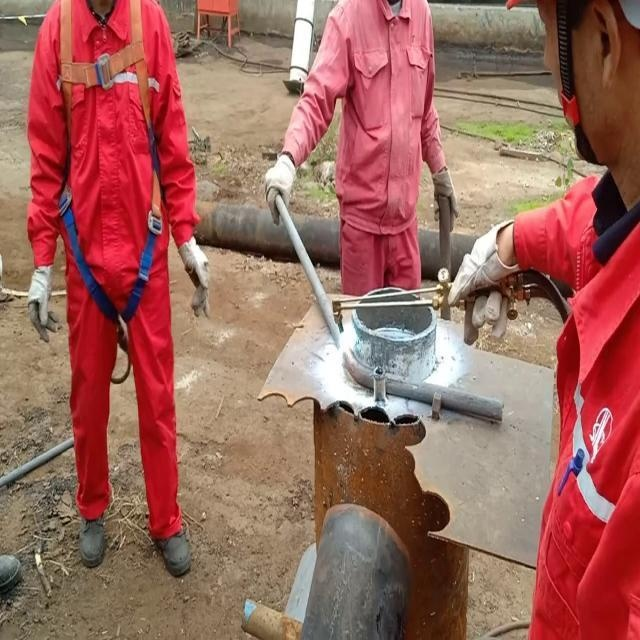Arnes_seguridad: (48, 0, 170, 339)
